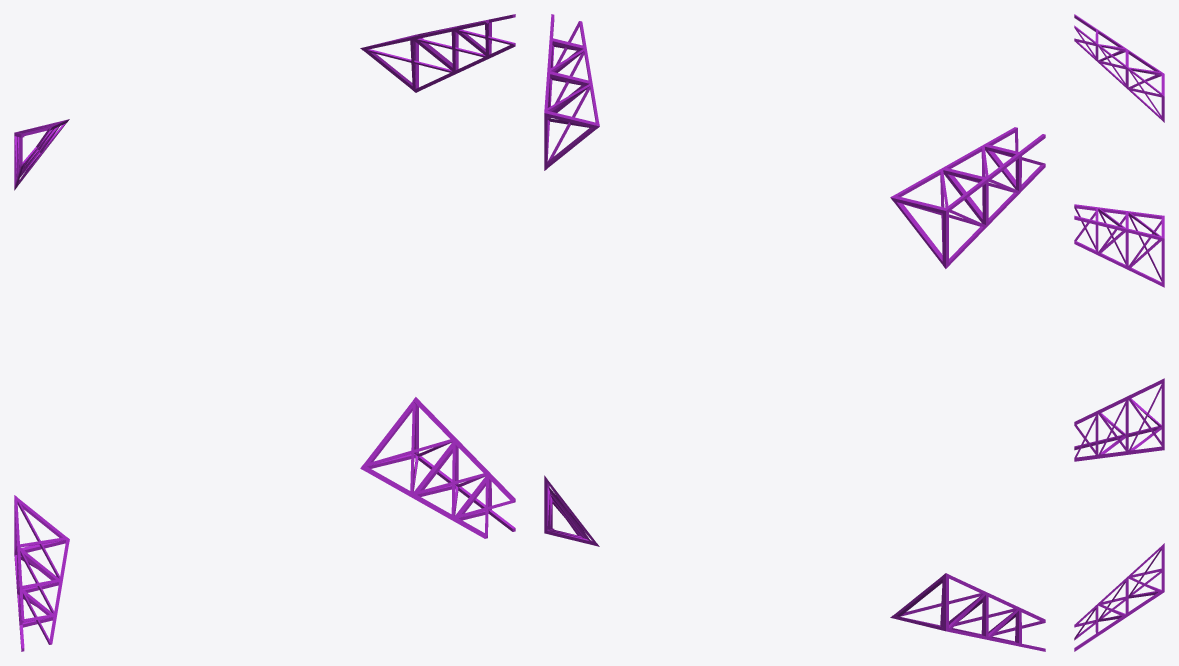
Rendered from tower_03.glb.
3 views of the same model, side by side, from view 1: azimuth 30°, elevation 25°; view 2: azimuth 150°, elevation 25°; view 3: azimuth 270°, elevation 25° (orthographic). The views are drawn at different scales.
Visible parts, largest first — view 1: H2; view 2: H2; view 3: H2.
Part boxes in pixels (x1,y1,x2,y2): H2: (14,14,515,651); H2: (544,14,1045,651); H2: (1074,14,1164,651).
Size of the model in its own units: 8 by 8 by 1.5.
